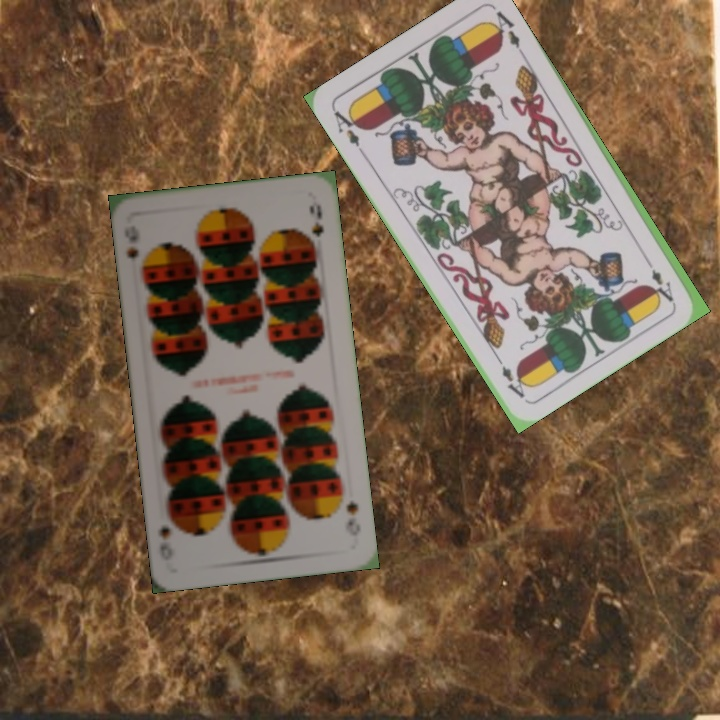EA: (639, 251, 677, 305), (330, 105, 367, 158)
S9: (341, 496, 363, 539), (122, 243, 150, 276)
